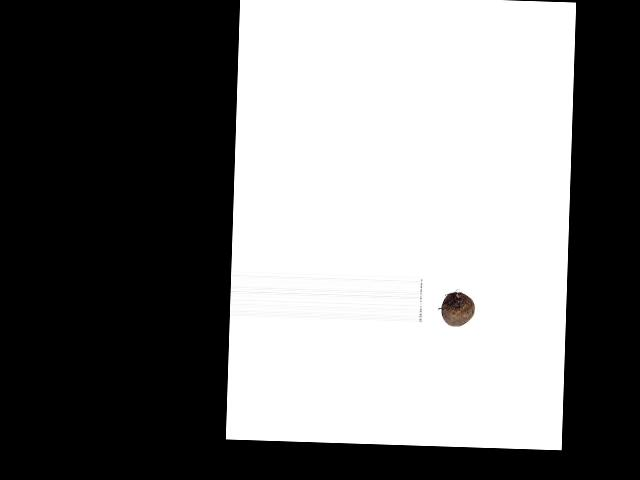beet: (441, 292, 474, 327)
